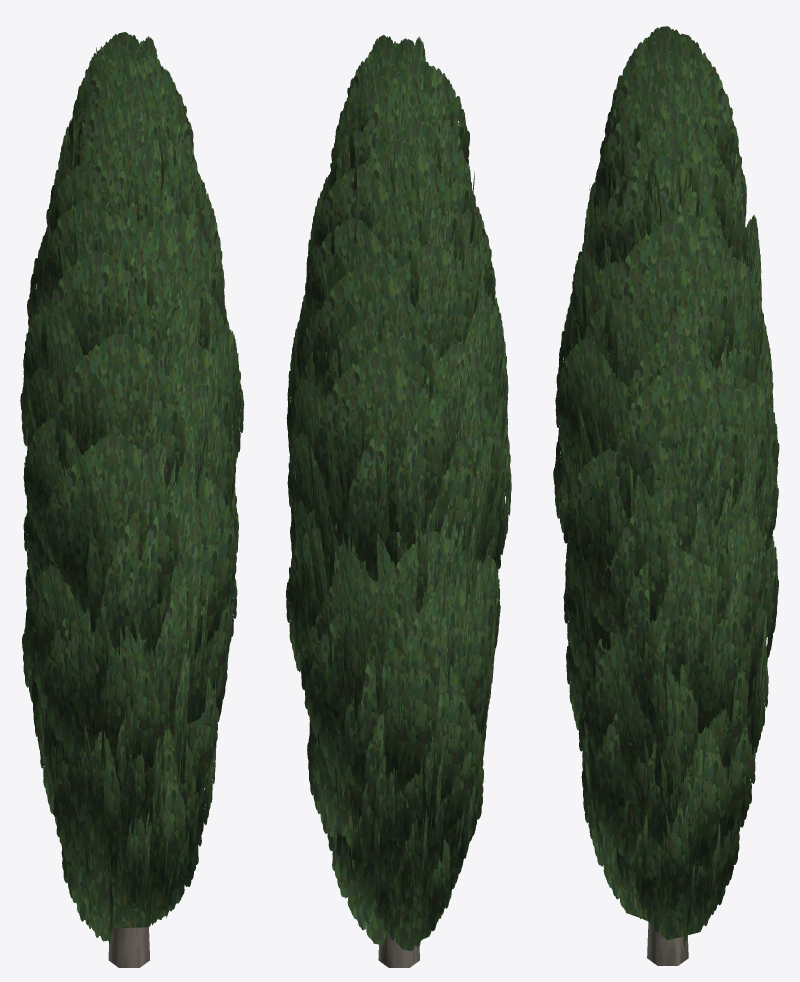
File: veg_med_cypress_b.fbx
The picture shows the model from 3 angles, left to right: view 1: azimuth 30°, elevation 25°; view 2: azimuth 150°, elevation 25°; view 3: azimuth 270°, elevation 25°; orthographic projection.
Parts seen in each view (by area): view 1: veg_med_cypress_b_LOD0; view 2: veg_med_cypress_b_LOD0; view 3: veg_med_cypress_b_LOD0.
Boxes of the visible parts, <box> form: veg_med_cypress_b_LOD0: <box>20,32,244,967</box>; veg_med_cypress_b_LOD0: <box>286,35,511,967</box>; veg_med_cypress_b_LOD0: <box>553,26,779,965</box>.
Size of what is drawn, in the model's own units: 2.3 by 9.79 by 2.29.
2 materials, 2 textured.
